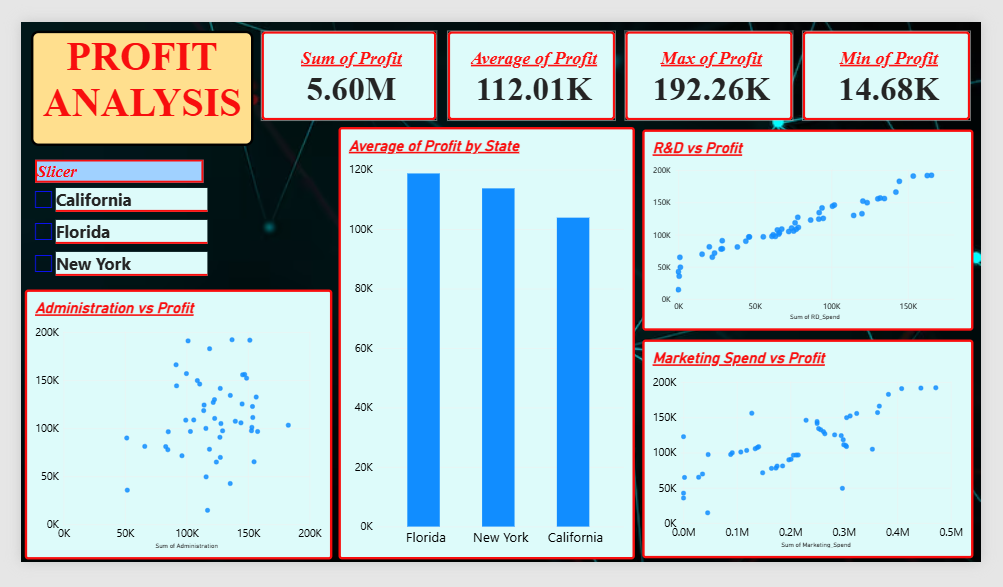

The dashboard page shown, as its layout file describes it:
{"tool":"powerbi","page":{"name":"Page 1","canvas":[1920,1080],"ordinal":0},"visuals":[{"type":"cardVisual","fields":{"Data":["Sum(Profit_Analysis_Dataset_csv.Profit)"]},"box":[480,17.5,352.5,180],"z":0},{"type":"clusteredColumnChart","title":"Average of Profit by State","fields":{"Y":["Avg(Profit_Analysis_Dataset_csv.Profit)"],"Category":["Profit_Analysis_Dataset_csv.State"]},"box":[635,210,592.5,865],"z":1000},{"type":"cardVisual","fields":{"Data":["Avg(Profit_Analysis_Dataset_csv.Profit)"]},"box":[852.5,17.5,337.5,180],"z":2000},{"type":"cardVisual","fields":{"Data":["Max(Profit_Analysis_Dataset_csv.Profit)"]},"box":[1207.5,17.5,337.5,180],"z":3000},{"type":"cardVisual","fields":{"Data":["Min(Profit_Analysis_Dataset_csv.Profit)"]},"box":[1562.5,17.5,337.5,180],"z":4000},{"type":"scatterChart","title":"R&D vs Profit","fields":{"X":["Sum(Profit_Analysis_Dataset_csv.RD_Spend)"],"Y":["Profit_Analysis_Dataset_csv.Profit"]},"box":[1242.5,215,662.5,402.5],"z":5000},{"type":"scatterChart","title":"Administration vs Profit","fields":{"X":["Sum(Profit_Analysis_Dataset_csv.Administration)"],"Y":["Profit_Analysis_Dataset_csv.Profit"]},"box":[7.5,535,615,540],"z":6000},{"type":"scatterChart","title":"Marketing Spend vs Profit","fields":{"Y":["Profit_Analysis_Dataset_csv.Profit"],"X":["Sum(Profit_Analysis_Dataset_csv.Marketing_Spend)"]},"box":[1242.5,635,662.5,437.5],"z":7000},{"type":"textbox","box":[20,17.5,445,230],"z":8000},{"type":"slicer","fields":{"Values":["Profit_Analysis_Dataset_csv.State"]},"box":[20,275,352.5,245],"z":9000}]}

Visuals, with their boxes in screenshot pixels (x1, y1, x2, y2):
cardVisual - Sum(Profit_Analysis_Dataset_csv.Profit): (x1=262, y1=32, x2=437, y2=122)
"Average of Profit by State" clusteredColumnChart: (x1=339, y1=128, x2=633, y2=558)
cardVisual - Avg(Profit_Analysis_Dataset_csv.Profit): (x1=447, y1=32, x2=615, y2=122)
cardVisual - Max(Profit_Analysis_Dataset_csv.Profit): (x1=624, y1=32, x2=791, y2=122)
cardVisual - Min(Profit_Analysis_Dataset_csv.Profit): (x1=800, y1=32, x2=968, y2=122)
"R&D vs Profit" scatterChart: (x1=641, y1=130, x2=970, y2=330)
"Administration vs Profit" scatterChart: (x1=27, y1=289, x2=333, y2=558)
"Marketing Spend vs Profit" scatterChart: (x1=641, y1=339, x2=970, y2=556)
textbox: (x1=33, y1=32, x2=255, y2=146)
slicer - Profit_Analysis_Dataset_csv.State: (x1=33, y1=160, x2=209, y2=282)
